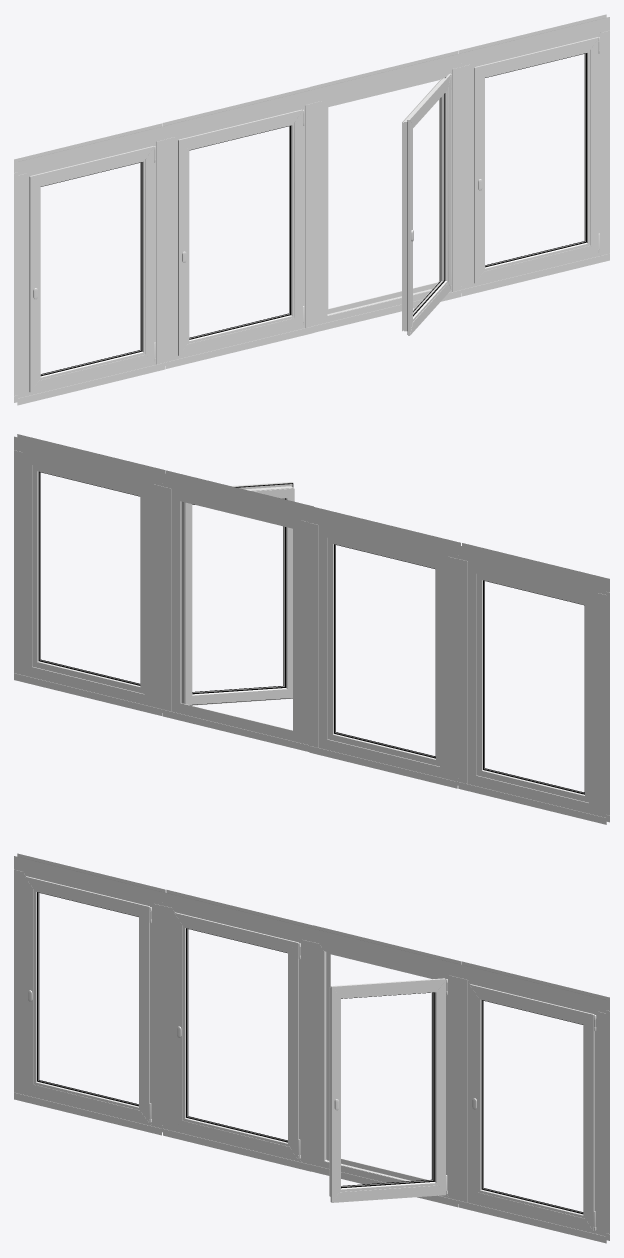
File: FrontWindows.glb
3 views of the same model, one above another, from view 1: azimuth 30°, elevation 25°; view 2: azimuth 150°, elevation 25°; view 3: azimuth 330°, elevation 25° (orthographic).
Parts seen in each view (by area): view 1: #WIN0003_Window_#WIN0003_Textures_0.004; view 2: #WIN0003_Window_#WIN0003_Textures_0.004; view 3: #WIN0003_Window_#WIN0003_Textures_0.004.
Boxes of the visible parts, box(x1,y1,x2,y2) form: #WIN0003_Window_#WIN0003_Textures_0.004: box(14, 14, 609, 405); #WIN0003_Window_#WIN0003_Textures_0.004: box(14, 434, 609, 824); #WIN0003_Window_#WIN0003_Textures_0.004: box(14, 853, 609, 1243).
Size of the model in its own units: 6.32 by 2.49 by 0.7581.
1 material, 1 textured.
